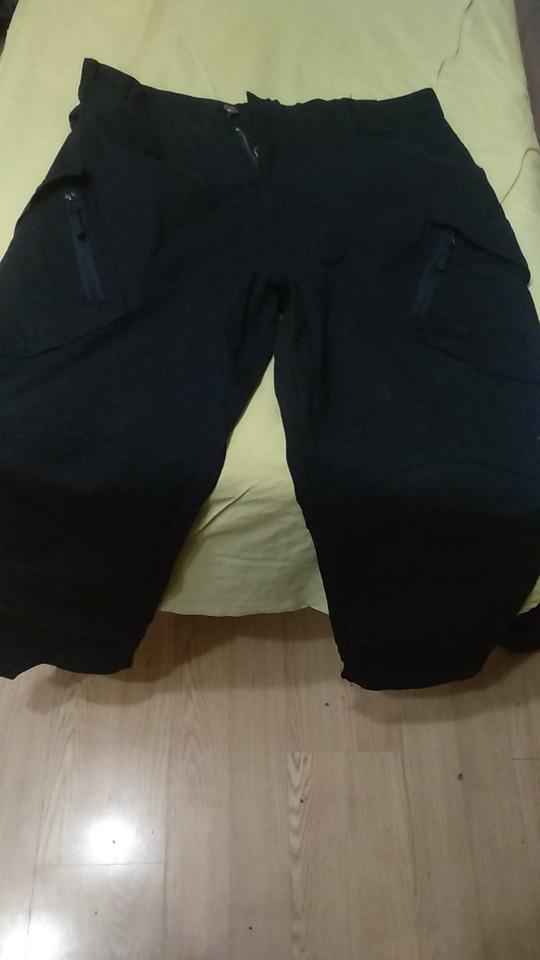pants: (13, 59, 540, 694)
